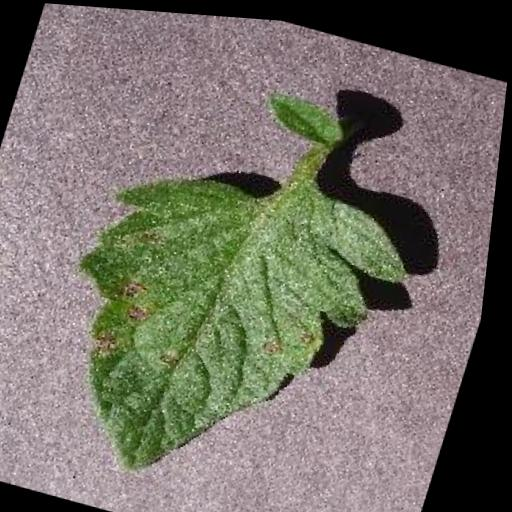Early Blight: (28, 132, 436, 512)
